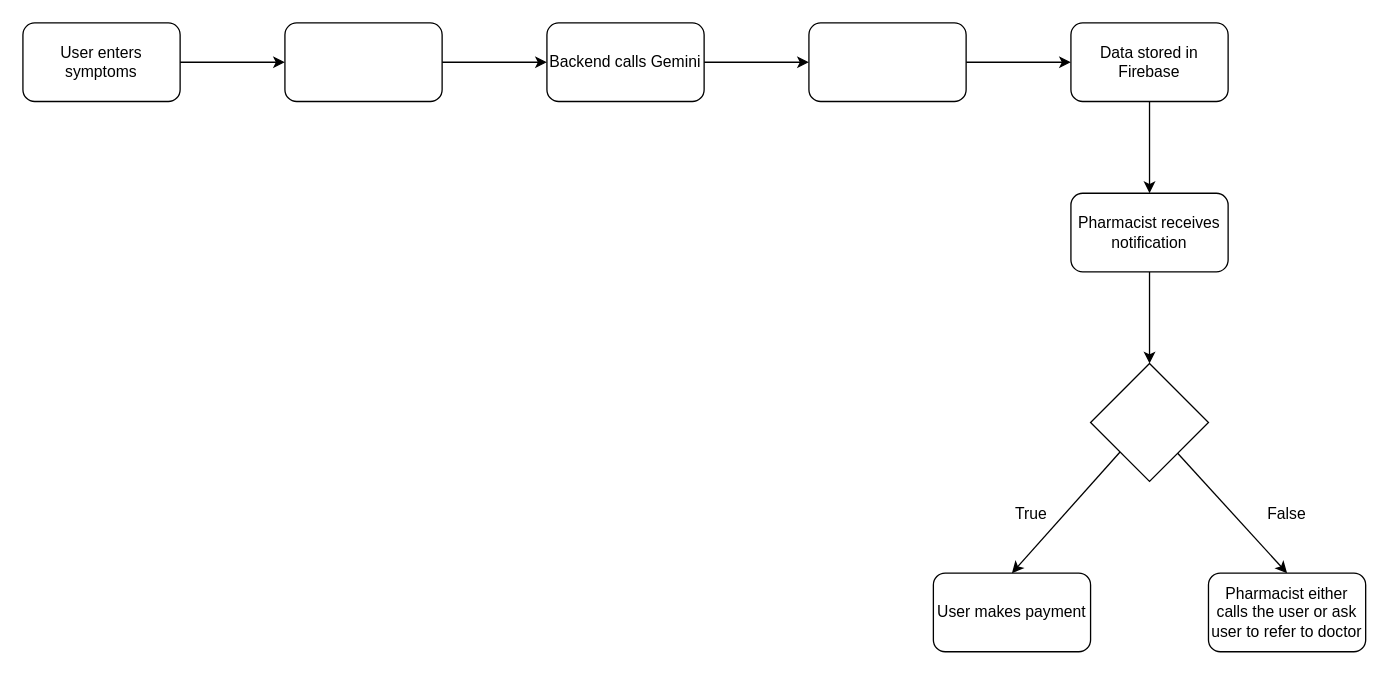
This 1389x675 diagram has some shape labels left out. Each missing label, with the centre of its shape:
AI generates suggestions: the point at 887,62
App sends request to backend: the point at 363,62
Pharmacist approves: the point at 1148,421
